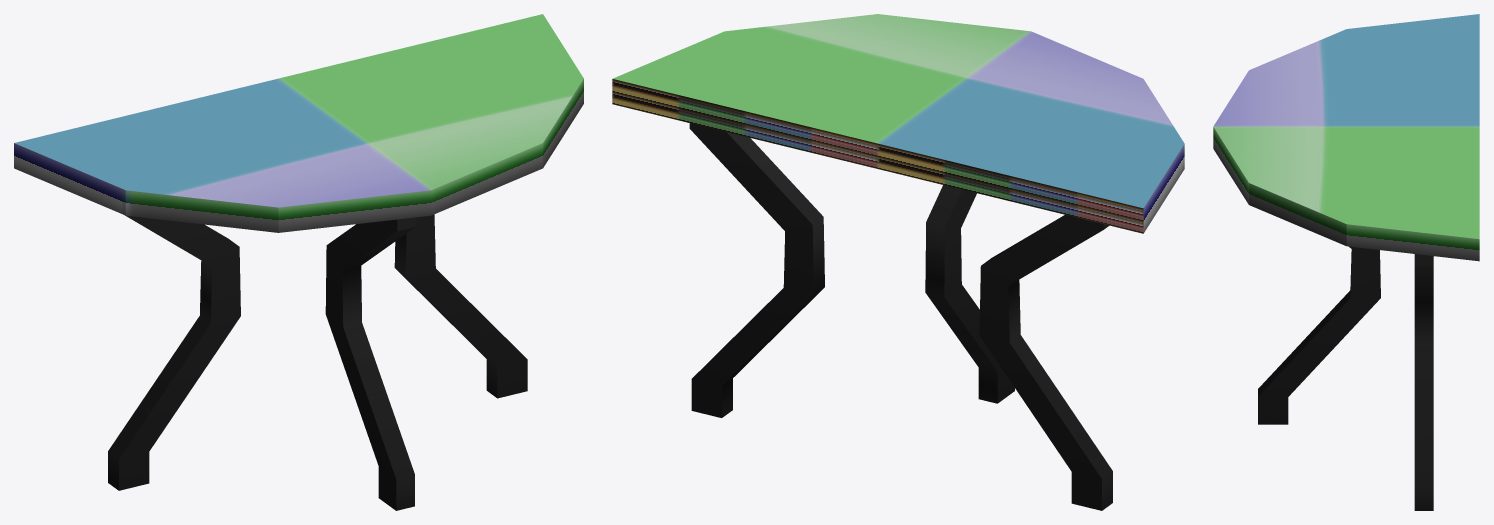
The model's file is tavolino_sp.fbx.
The picture shows the model from 3 angles, left to right: view 1: azimuth 30°, elevation 25°; view 2: azimuth 150°, elevation 25°; view 3: azimuth 270°, elevation 25°; orthographic projection. The views are drawn at different scales.
Parts seen in each view (by area): view 1: SM_tavolino_sp; view 2: SM_tavolino_sp; view 3: SM_tavolino_sp.
Boxes of the visible parts, left/top/right/bottom form: SM_tavolino_sp: left=14, top=14, right=583, bottom=510; SM_tavolino_sp: left=612, top=14, right=1184, bottom=510; SM_tavolino_sp: left=1213, top=14, right=1479, bottom=510.
Bounding box in the file's own units: 258 × 157 × 129.
